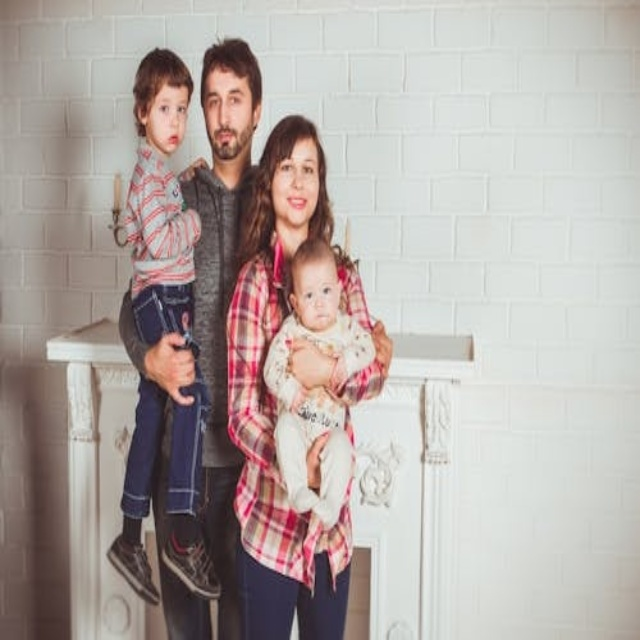Sin_gafas: (204, 83, 247, 113), (157, 90, 187, 123), (276, 161, 319, 182)
Sin_guantes: (148, 335, 198, 401), (288, 340, 338, 392), (305, 433, 330, 490), (369, 320, 393, 377)
Sin_mascara: (212, 127, 237, 156), (282, 186, 307, 215), (165, 129, 179, 148)
